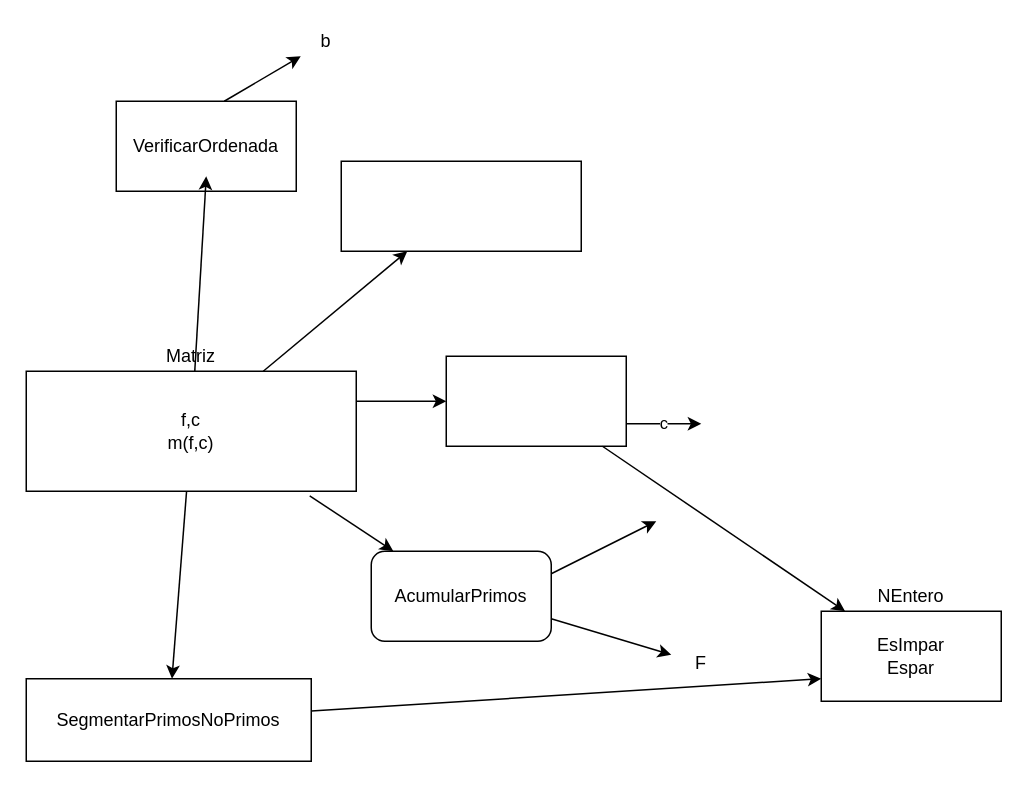
Some shapes in this 1028 by 788 pixel diagram are drawn without their labels. Each missing label, with the centre of its shape:
"AcumularImpares" goes at (535,400).
"OrdenarFinalHastaInicio" goes at (460,205).
